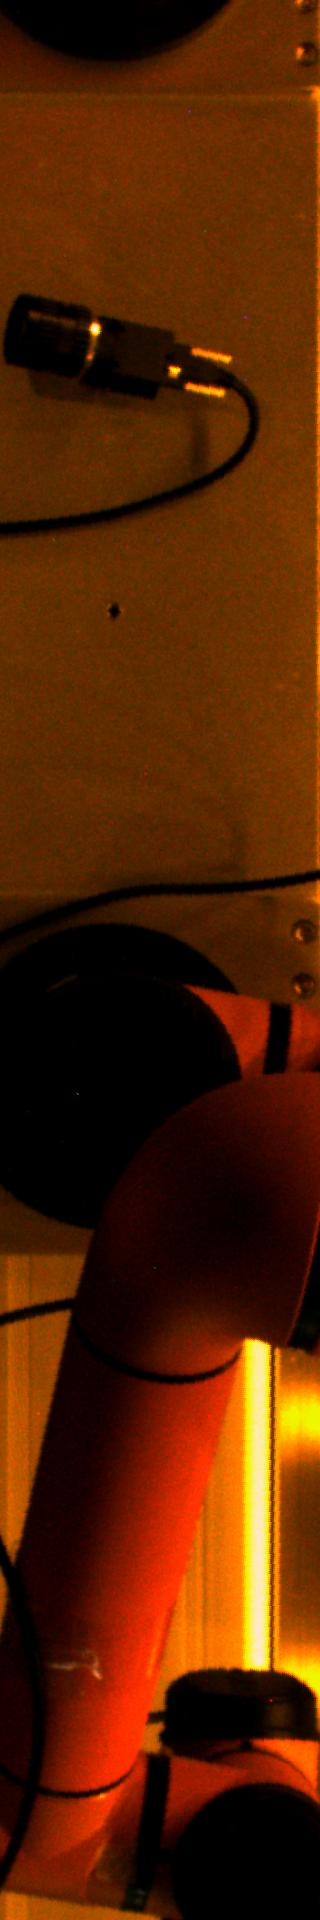keyPoint_2: (98, 598, 128, 627)
